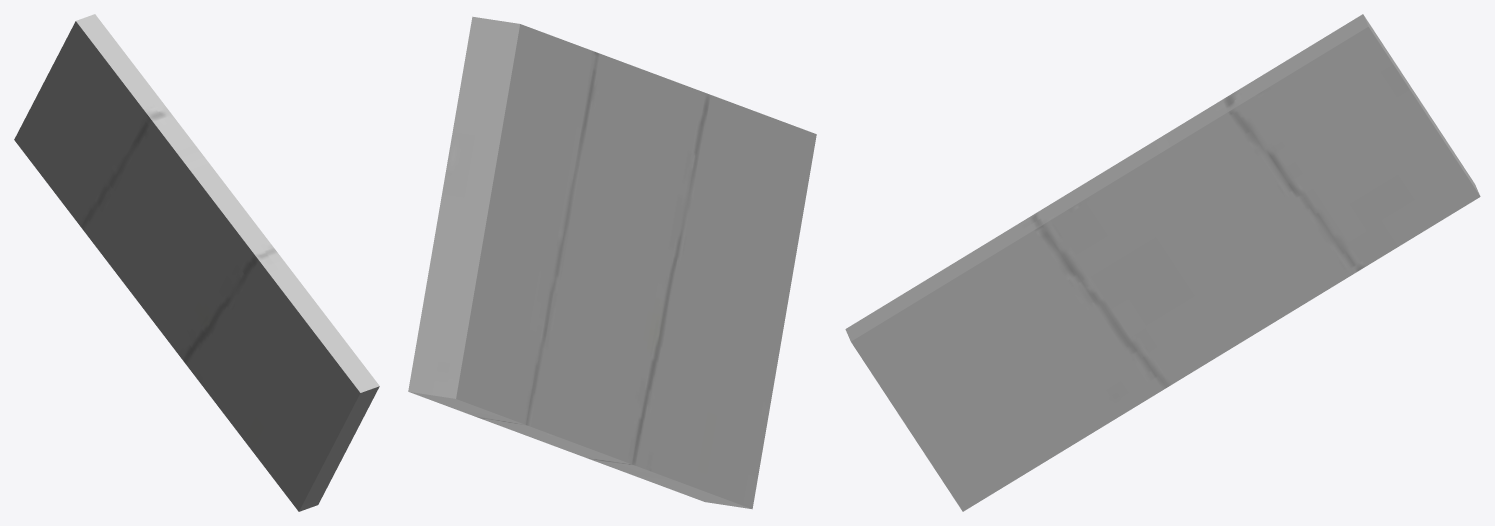
Rendered from fan_wheel__fan_blade_7.glb.
3 views of the same model, side by side, from view 1: azimuth 30°, elevation 25°; view 2: azimuth 150°, elevation 25°; view 3: azimuth 270°, elevation 25° (orthographic). The views are drawn at different scales.
Visible parts, largest first — view 1: geometry_0; view 2: geometry_0; view 3: geometry_0.
Boxes of the visible parts, bbox=[...] form: geometry_0: bbox=[14, 14, 379, 511]; geometry_0: bbox=[408, 16, 816, 509]; geometry_0: bbox=[845, 14, 1480, 511].
Size of the model in its own units: 0.038 by 0.132 by 0.1673.
1 material, 1 textured.
